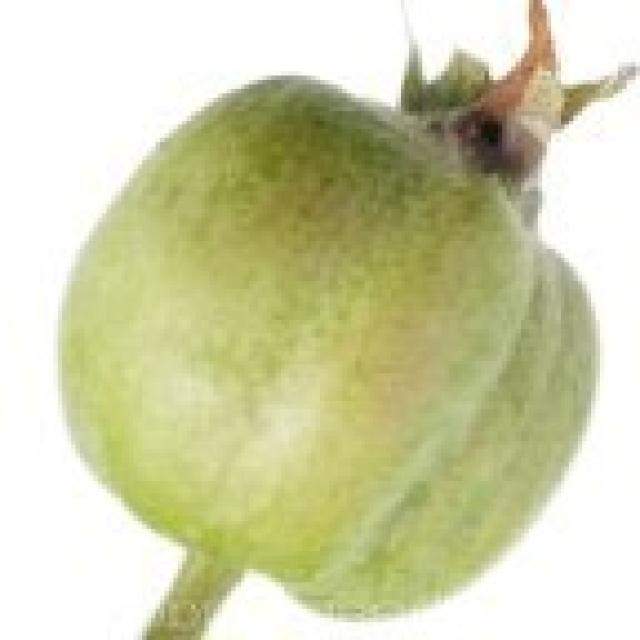20-_ripeness: (68, 21, 628, 613)
